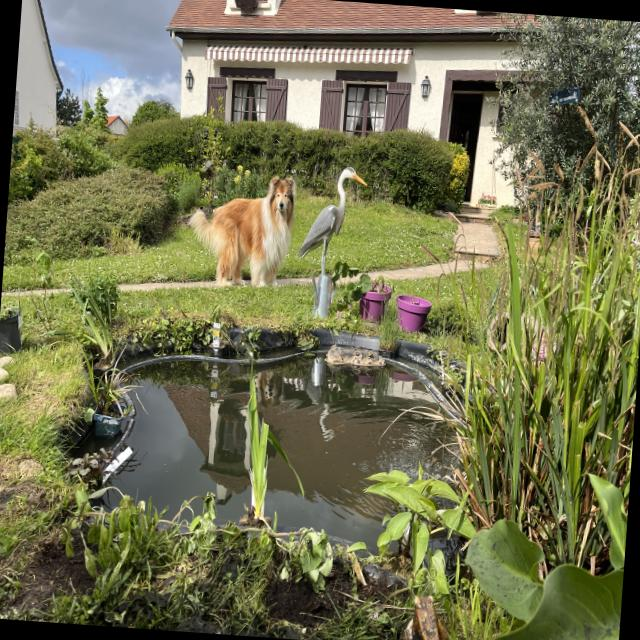Dog: (180, 154, 300, 312)
Heron: (295, 156, 370, 298)
